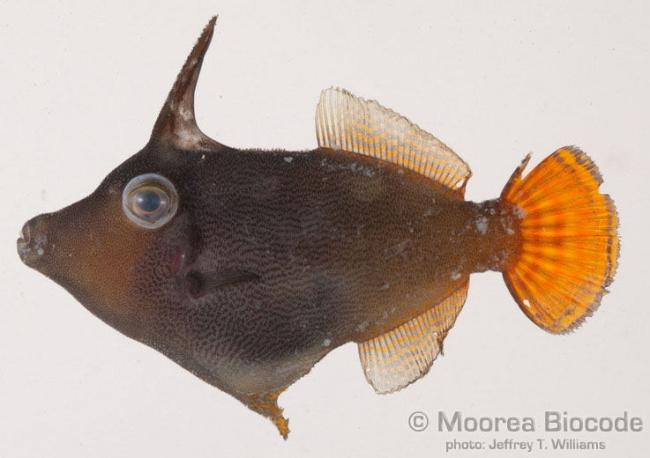fish: (16, 14, 622, 441)
